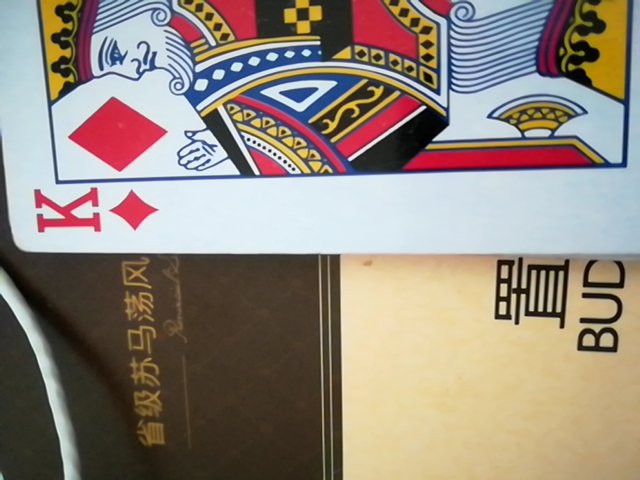fk k: (0, 5, 636, 268)
